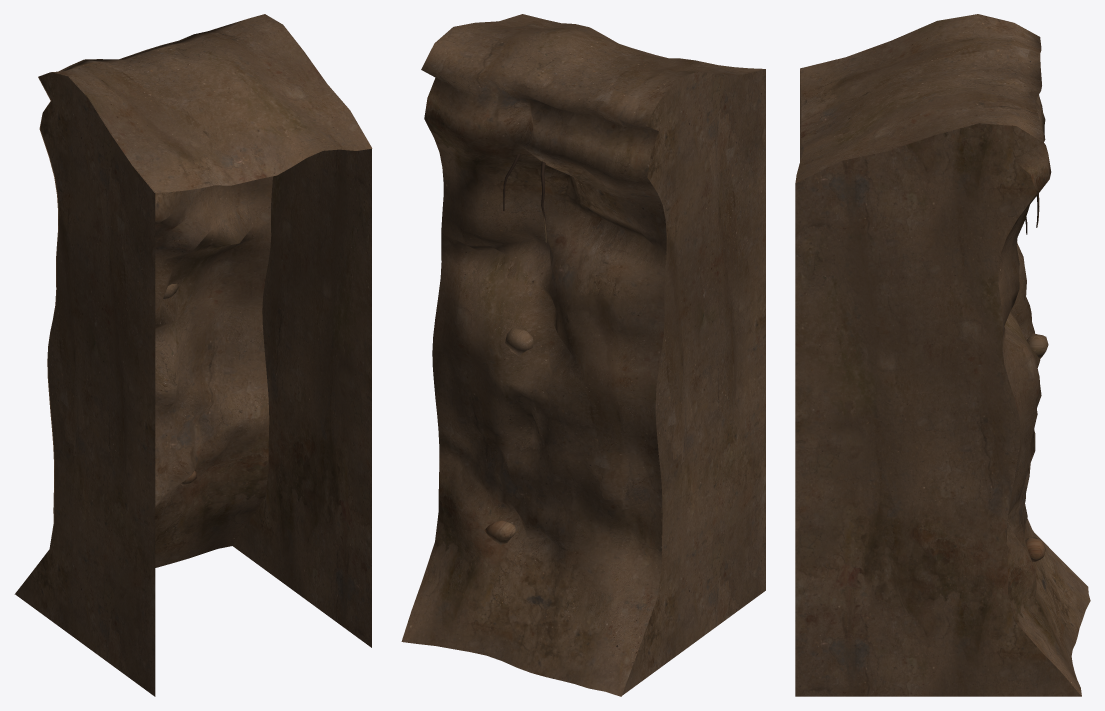
The model's file is S7U_EarthBank_1m_B.fbx.
3 views of the same model, side by side, from view 1: azimuth 30°, elevation 25°; view 2: azimuth 150°, elevation 25°; view 3: azimuth 270°, elevation 25° (orthographic). The views are drawn at different scales.
Parts seen in each view (by area): view 1: S7U_EarthBank_1m_B; view 2: S7U_EarthBank_1m_B; view 3: S7U_EarthBank_1m_B.
Boxes of the visible parts, x1,y1,x2,y2 form: S7U_EarthBank_1m_B: [14, 14, 372, 696]; S7U_EarthBank_1m_B: [401, 14, 765, 696]; S7U_EarthBank_1m_B: [795, 14, 1090, 696].
Size of the model in its own units: 1 by 2.48 by 1.15.
